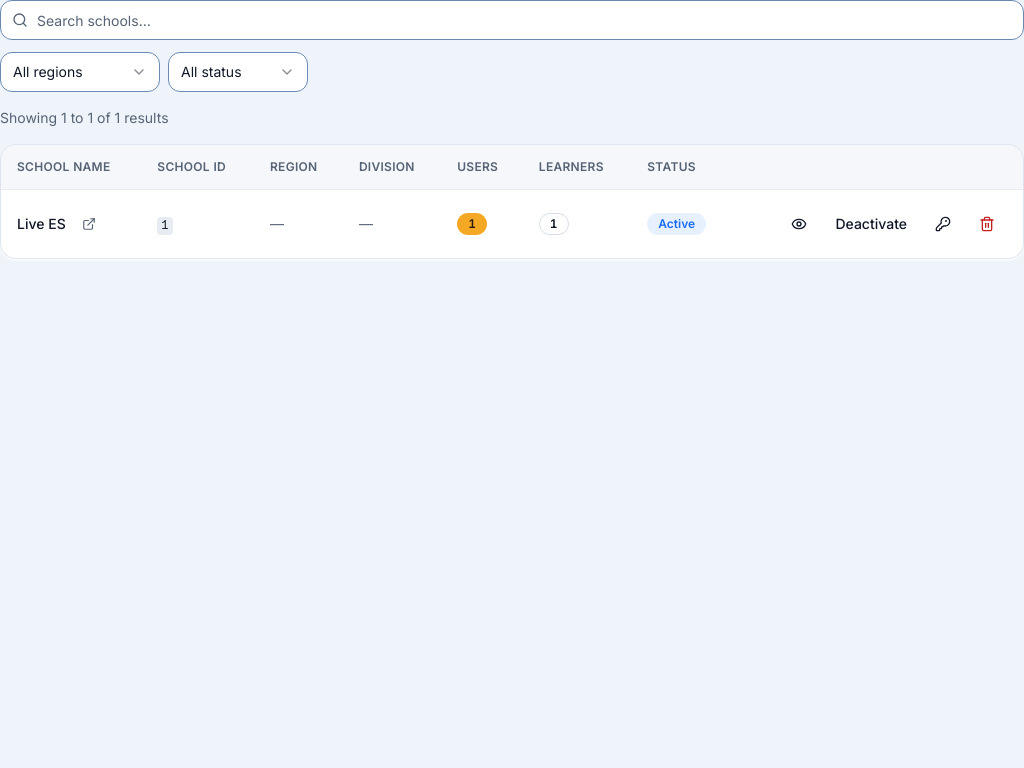
SchoolsTable remove dialog › points to the Removed tab instead of support
Click the button named "Remove Live ES". click: [987, 224]
box: 967,206 -> 1007,242
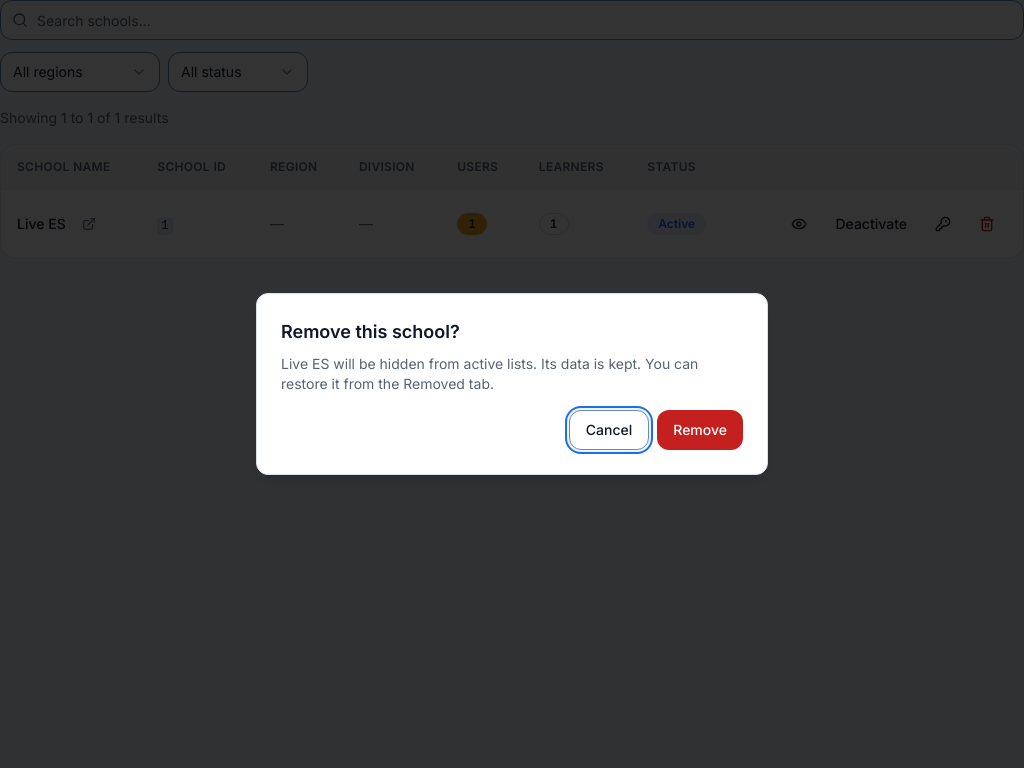
Expected: the dialog shows "You can restore it from the Removed tab.", 281,355 -> 698,392
